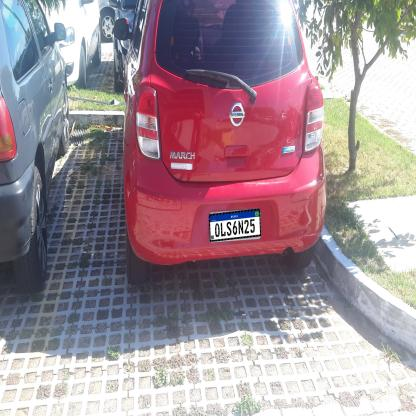PlacaM: (209, 208, 261, 242)
